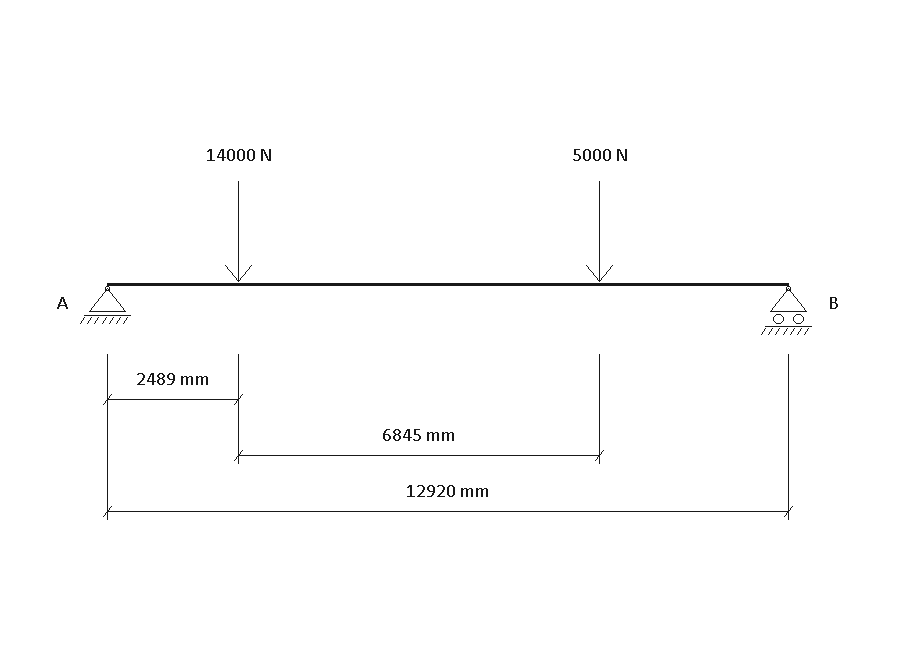pin_support: (80, 286, 131, 324)
point_load: (225, 181, 252, 282), (586, 181, 613, 282)
roller_support: (761, 286, 812, 335)
